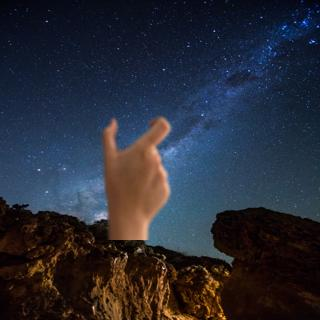Irritated: (95, 110, 175, 239)
